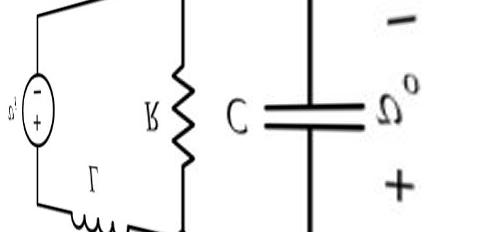resistor: (159, 49, 207, 172)
